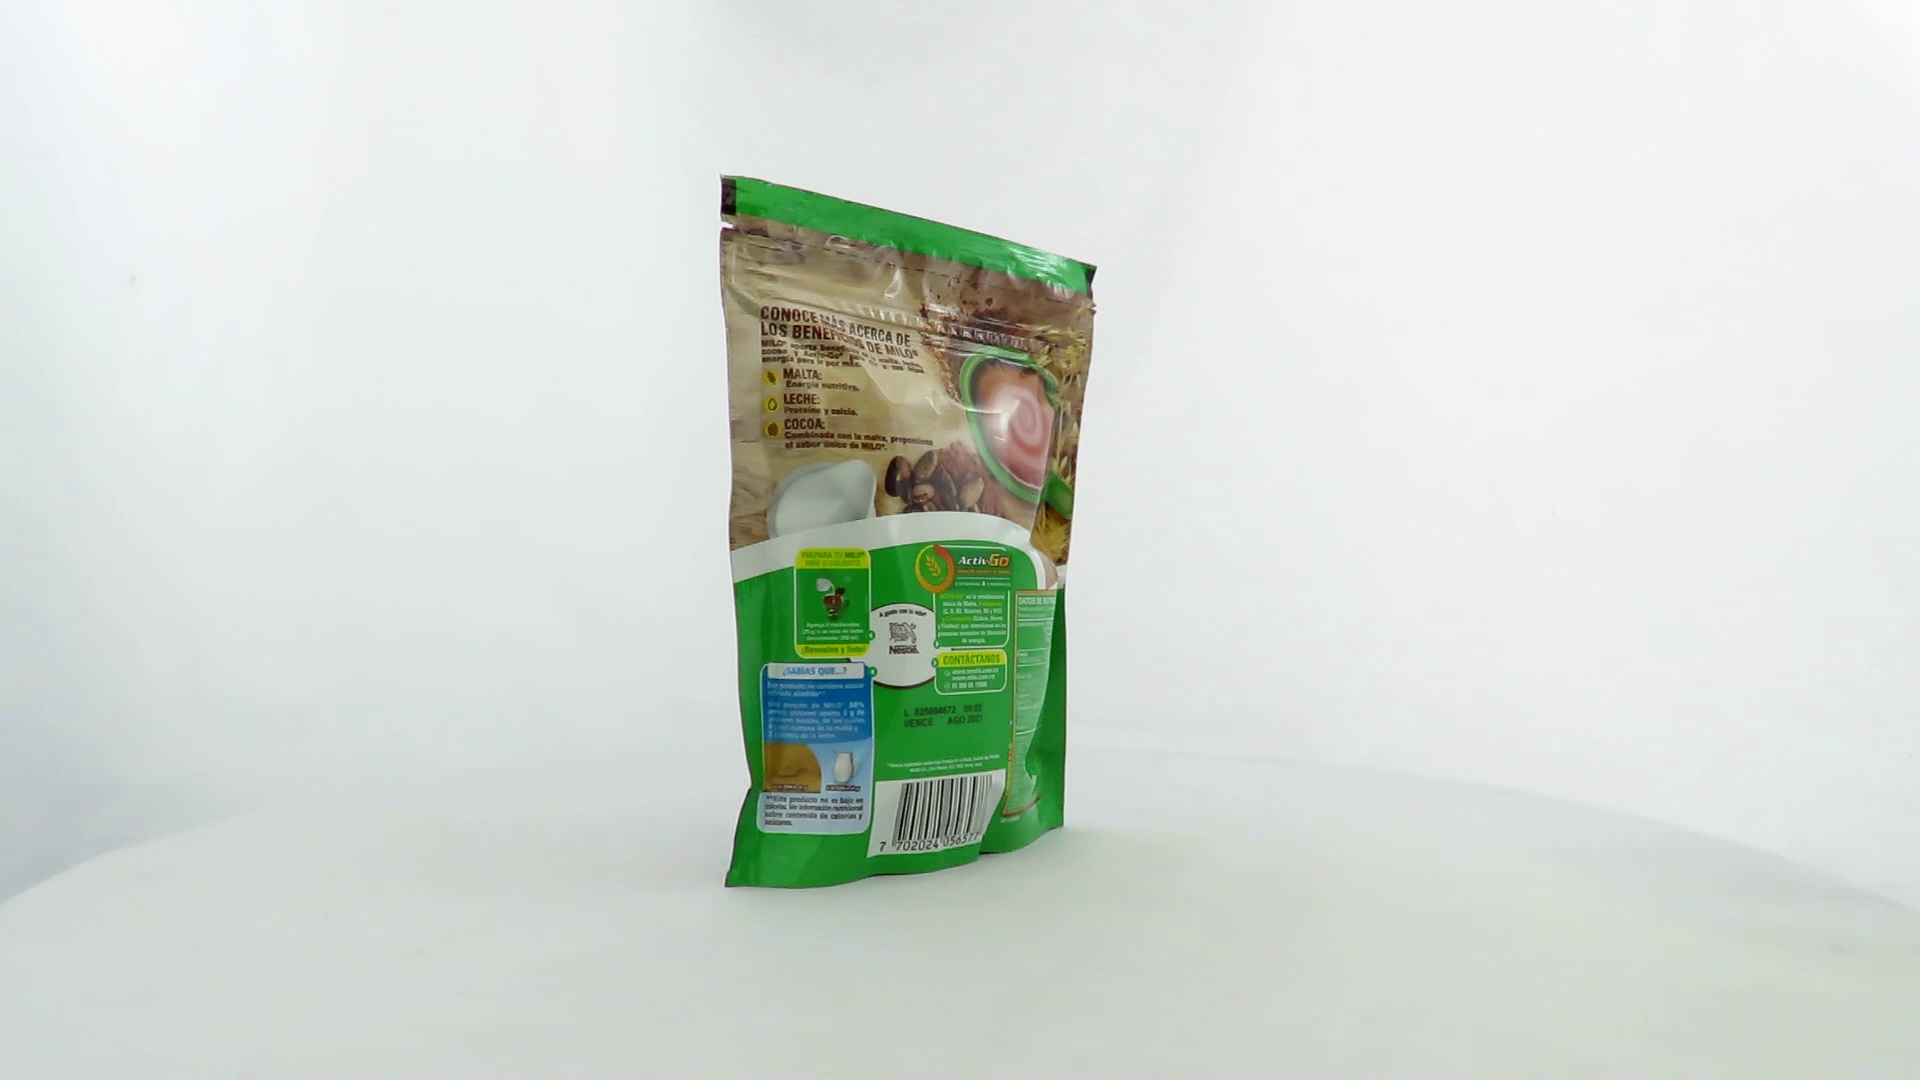COL0170205DYP20000: (713, 169, 1130, 895)
